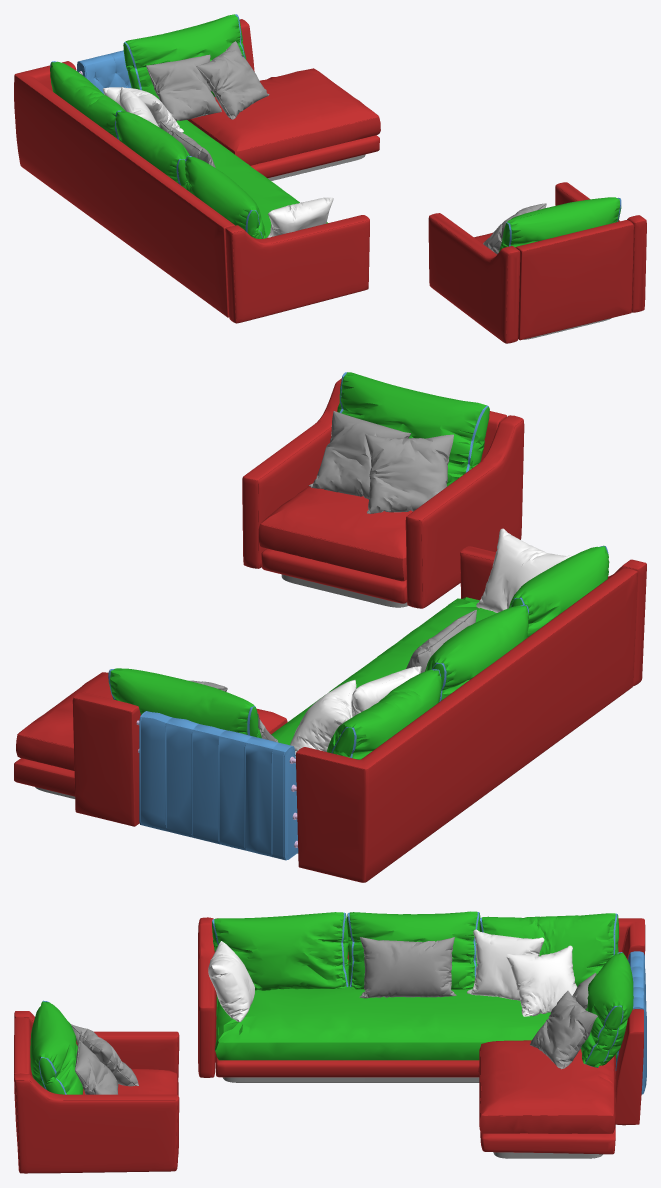
Rendered from Sofa.fbx.
3 views of the same model, one above another, from view 1: azimuth 30°, elevation 25°; view 2: azimuth 150°, elevation 25°; view 3: azimuth 270°, elevation 25° (orthographic). The views are drawn at different scales.
Visible parts, largest first — view 1: Body, Body.001, Pillow_Back_Body, Neshiman2, Pillow2, Pillow_Back_Body.001, Pillow1, Neshiman1, Leather_Body, Pillow2.001; view 2: Body, Body.001, Pillow_Back_Body, Leather_Body, Pillow2.001, Neshiman2.001, Pillow_Back_Body.001, Pillow1, Neshiman2, Neshiman1, Pillow2, Leg.001; view 3: Pillow_Back_Body, Neshiman1, Body.001, Body, Neshiman2, Pillow1, Pillow2, Pillow_Back_Body.001, Pillow2.001, Leg, Neshiman2.001, Leather_Body.
Part boxes in pixels (x1,y1,x2,y2): Body: (14,19,379,323); Body.001: (428,182,646,343); Pillow_Back_Body: (50,14,265,238); Neshiman2: (187,68,380,165); Pillow2: (146,41,269,167); Pillow_Back_Body.001: (499,197,621,251); Pillow1: (102,87,333,237); Neshiman1: (176,120,327,238); Leather_Body: (77,50,131,93); Pillow2.001: (483,203,546,254); Body: (14,546,646,882); Body.001: (242,378,524,608); Pillow_Back_Body: (108,545,609,759); Leather_Body: (139,711,298,860); Pillow2.001: (308,411,453,513); Neshiman2.001: (258,483,412,581); Pillow_Back_Body.001: (337,372,489,486); Pillow1: (290,528,571,757); Neshiman2: (16,672,287,770); Neshiman1: (271,597,496,745); Pillow2: (189,610,476,742); Leg.001: (281,574,408,607); Pillow_Back_Body: (212,911,633,1067); Neshiman1: (215,985,617,1060); Body.001: (14,1011,179,1173); Body: (198,917,645,1154); Neshiman2: (479,1040,615,1133); Pillow1: (208,929,577,1021); Pillow2: (359,937,597,1069); Pillow_Back_Body.001: (30,1000,83,1094); Pillow2.001: (71,1024,138,1094); Leg: (222,1077,602,1158); Neshiman2.001: (83,1069,178,1095); Leather_Body: (615,951,646,1094).
Bounding box in the file's own units: 292 × 99.8 × 479.
